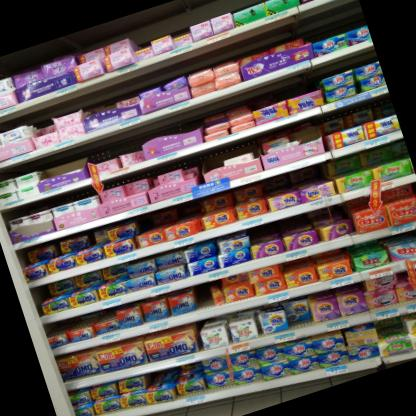empty_space: (34, 150, 87, 188), (189, 281, 219, 313)
